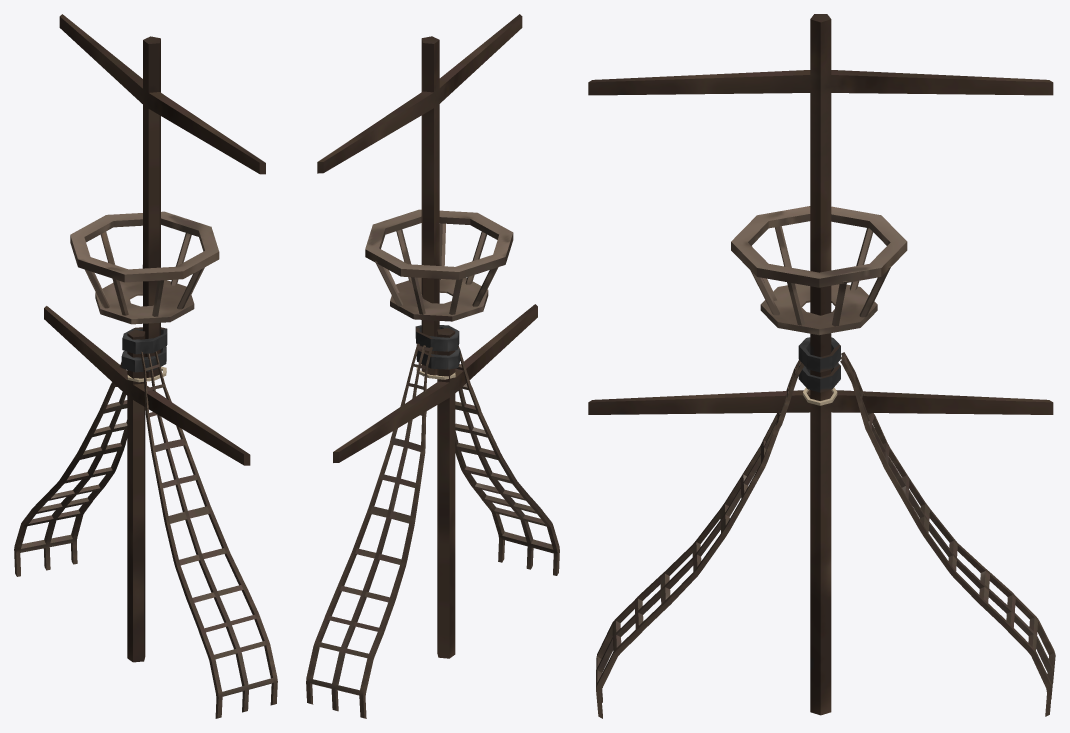
The model's file is M_hune_1.fbx.
3 views of the same model, side by side, from view 1: azimuth 30°, elevation 25°; view 2: azimuth 150°, elevation 25°; view 3: azimuth 270°, elevation 25° (orthographic). The views are drawn at different scales.
Visible parts, largest first — view 1: polySurface278; view 2: polySurface278; view 3: polySurface278.
Boxes of the visible parts, <box> form: polySurface278: <box>14,14,277,718</box>; polySurface278: <box>306,14,559,718</box>; polySurface278: <box>588,14,1055,718</box>.
Size of the model in its own units: 208 by 915 by 552.
1 material, 1 textured.
